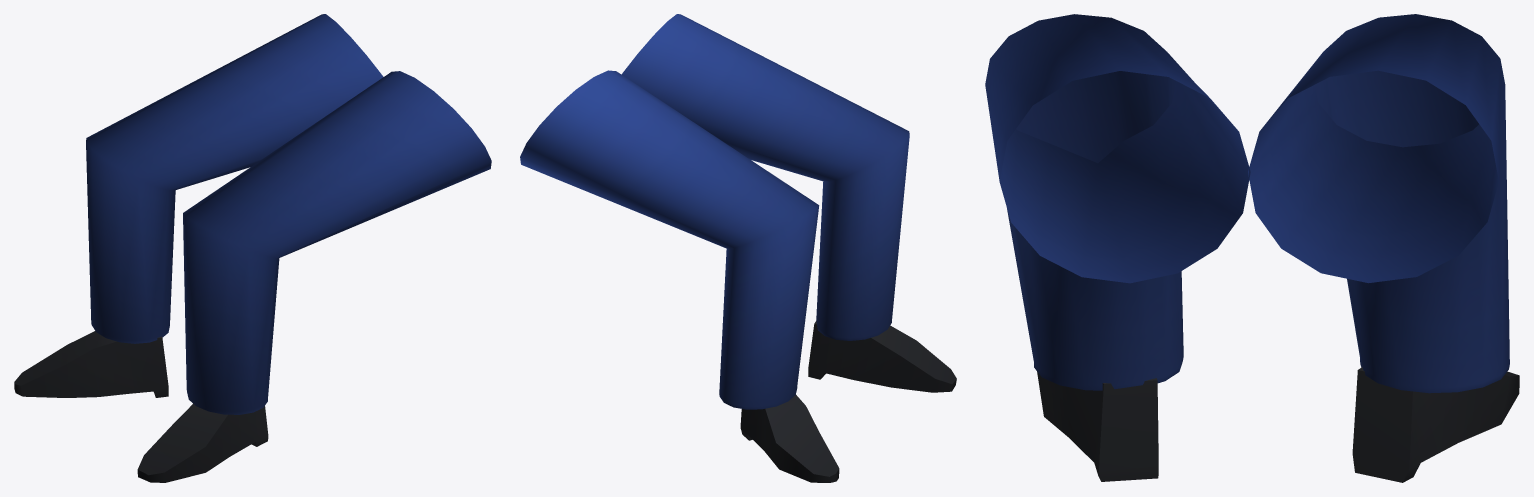
File: corpo_pilota.fbx
3 renders of one model, left to right at view 1: azimuth 30°, elevation 25°; view 2: azimuth 150°, elevation 25°; view 3: azimuth 270°, elevation 25°, orthographic. The views are drawn at different scales.
Parts seen in each view (by area): view 1: polySurface142; view 2: polySurface142; view 3: polySurface142.
Boxes of the visible parts, left/top/right/bottom form: polySurface142: left=14, top=14, right=491, bottom=482; polySurface142: left=520, top=14, right=956, bottom=482; polySurface142: left=985, top=14, right=1519, bottom=482.
Size of the model in its own units: 85.3 by 78.25 by 69.27.
